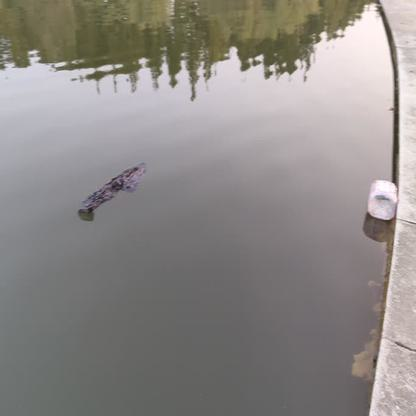plastic bag: (77, 162, 146, 217)
plastic bottle: (368, 179, 398, 220)
